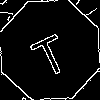T: (25, 25, 73, 80)
